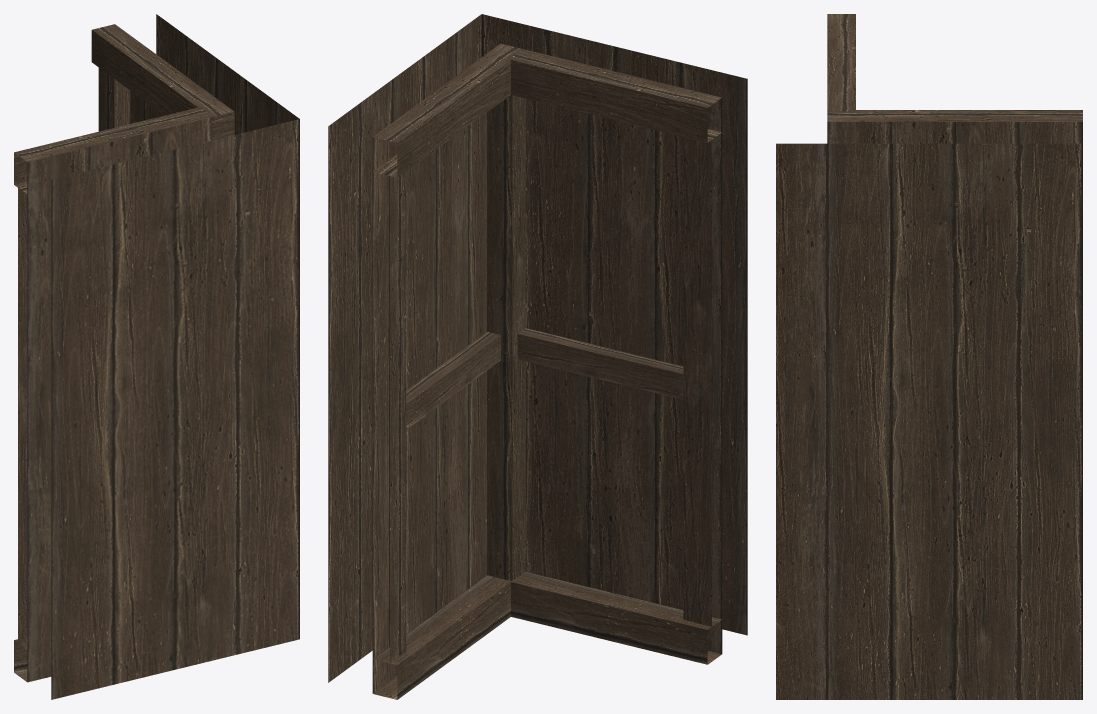
The model's file is ARC1010329.fbx.
3 renders of one model, left to right at view 1: azimuth 30°, elevation 25°; view 2: azimuth 150°, elevation 25°; view 3: azimuth 270°, elevation 25°, orthographic. The views are drawn at different scales.
Parts seen in each view (by area): view 1: smARC1010329; view 2: smARC1010329; view 3: smARC1010329.
Part boxes in pixels (x1,y1,x2,y2): smARC1010329: [14, 14, 299, 699]; smARC1010329: [328, 14, 747, 699]; smARC1010329: [776, 14, 1082, 699].
Bounding box in the file's own units: 134 × 268 × 134.
1 material, 1 textured.
